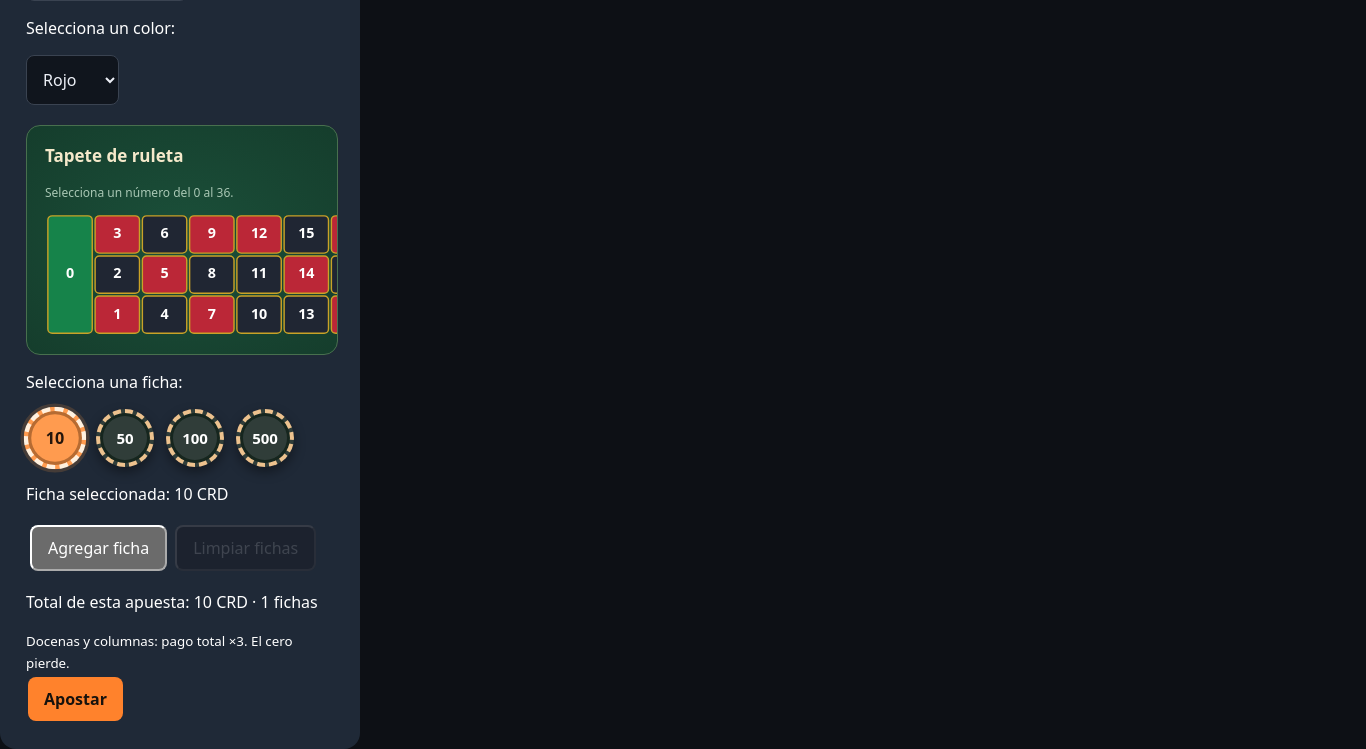
Test: HU08 - Control de saldo insuficiente › muestra la alerta cuando el saldo es cero
(page scrolled)
Click the button "Apostar". click: [75, 699]
box: [28,677,123,721]
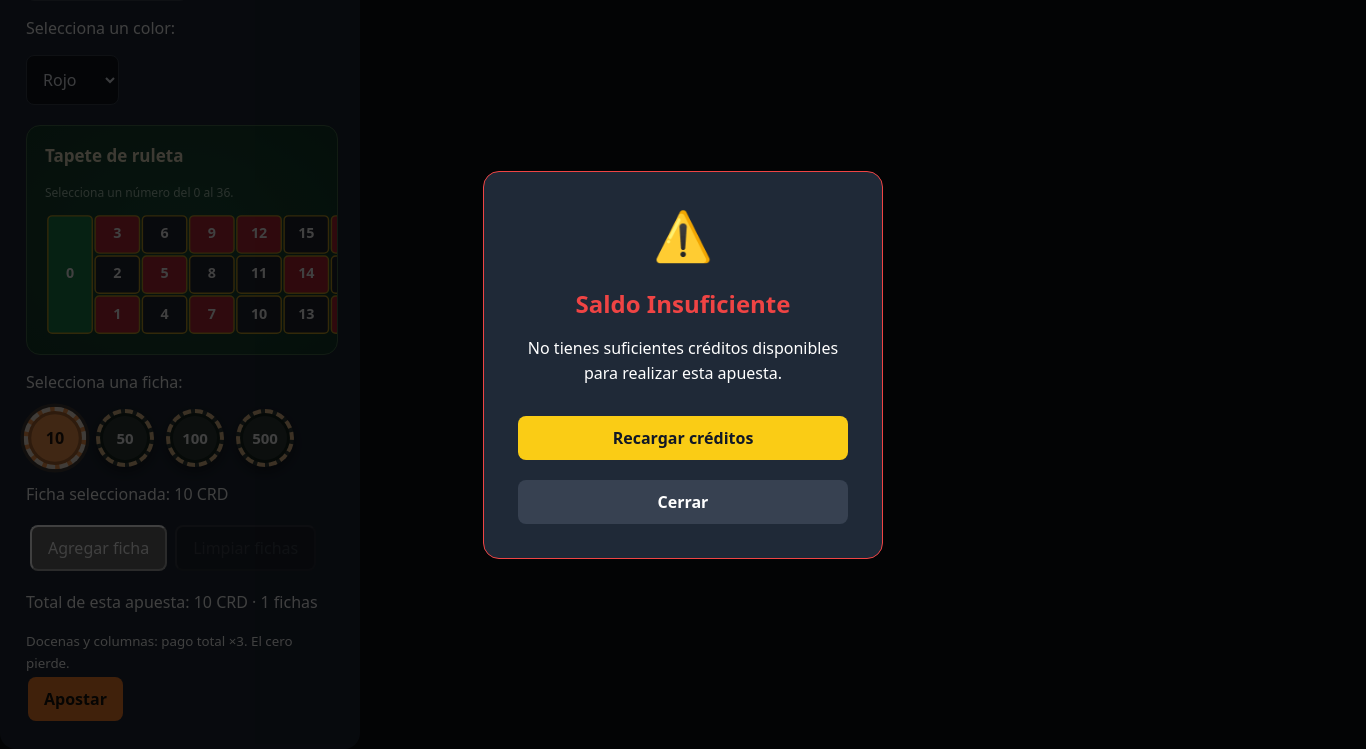
Now the dialog is shown, box [483,171,883,559]
Now the heading "Saldo Insuficiente" is shown, box [576,287,790,320]
